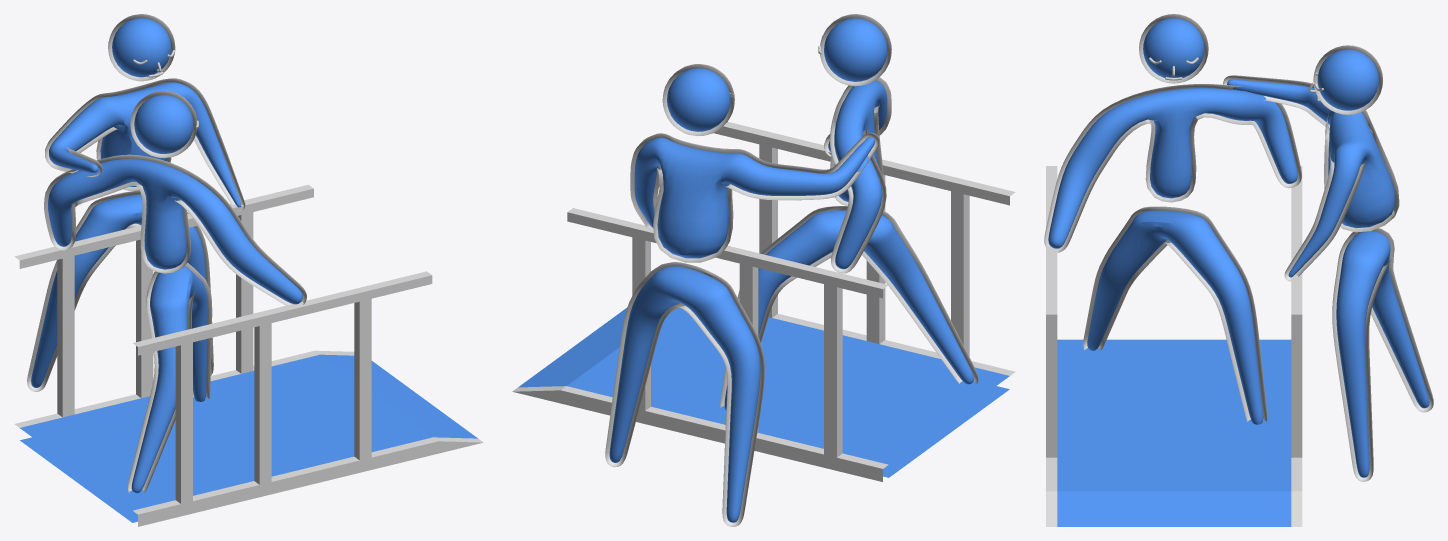
File: physicalTherapy.glb
The picture shows the model from 3 angles, left to right: view 1: azimuth 30°, elevation 25°; view 2: azimuth 150°, elevation 25°; view 3: azimuth 270°, elevation 25°; orthographic projection. The views are drawn at different scales.
Parts seen in each view (by area): view 1: Cube.009, Cube.010, Cube.012, Roundcube.001, Roundcube.004; view 2: Cube.009, Cube.012, Cube.010, Roundcube.004, Roundcube.001; view 3: Cube.009, Cube.010, Cube.012, Roundcube.004, Roundcube.001.
Boxes of the visible parts, x1,y1,x2,y2 form: Cube.009: [14, 184, 483, 526]; Cube.010: [44, 154, 306, 493]; Cube.012: [27, 78, 245, 391]; Roundcube.001: [130, 91, 197, 158]; Roundcube.004: [108, 14, 175, 81]; Cube.009: [512, 122, 1015, 481]; Cube.012: [605, 132, 879, 526]; Cube.010: [720, 77, 978, 409]; Roundcube.004: [662, 64, 734, 135]; Roundcube.001: [819, 14, 891, 86]; Cube.009: [1046, 166, 1302, 526]; Cube.010: [1044, 84, 1301, 424]; Cube.012: [1223, 75, 1433, 481]; Roundcube.004: [1313, 45, 1382, 114]; Roundcube.001: [1139, 14, 1208, 83].
Bounding box in the file's own units: 2.97 × 3.16 × 2.8.
